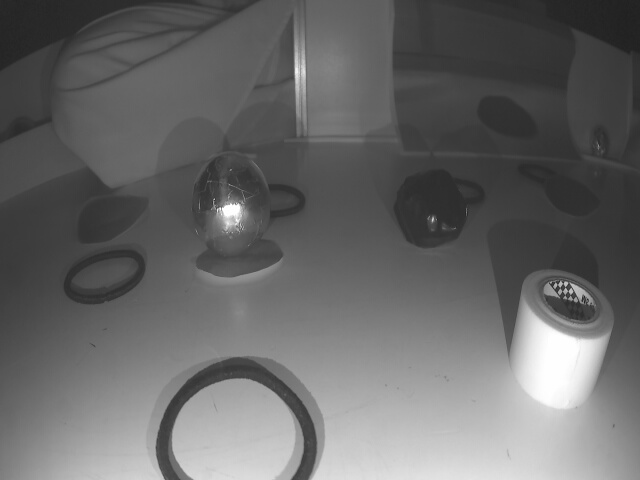Dead: (396, 171, 459, 243)
Live: (185, 159, 271, 259)
Point: (0, 103, 88, 204)
